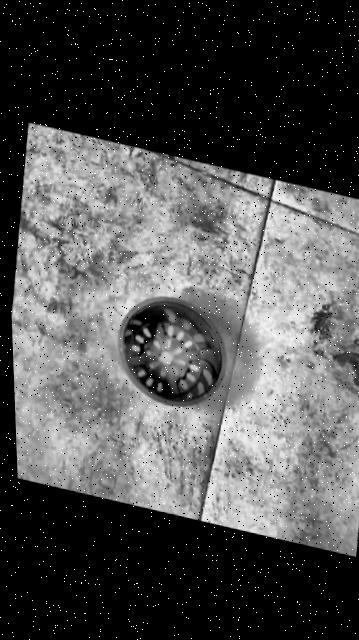pot: (110, 284, 233, 419)
